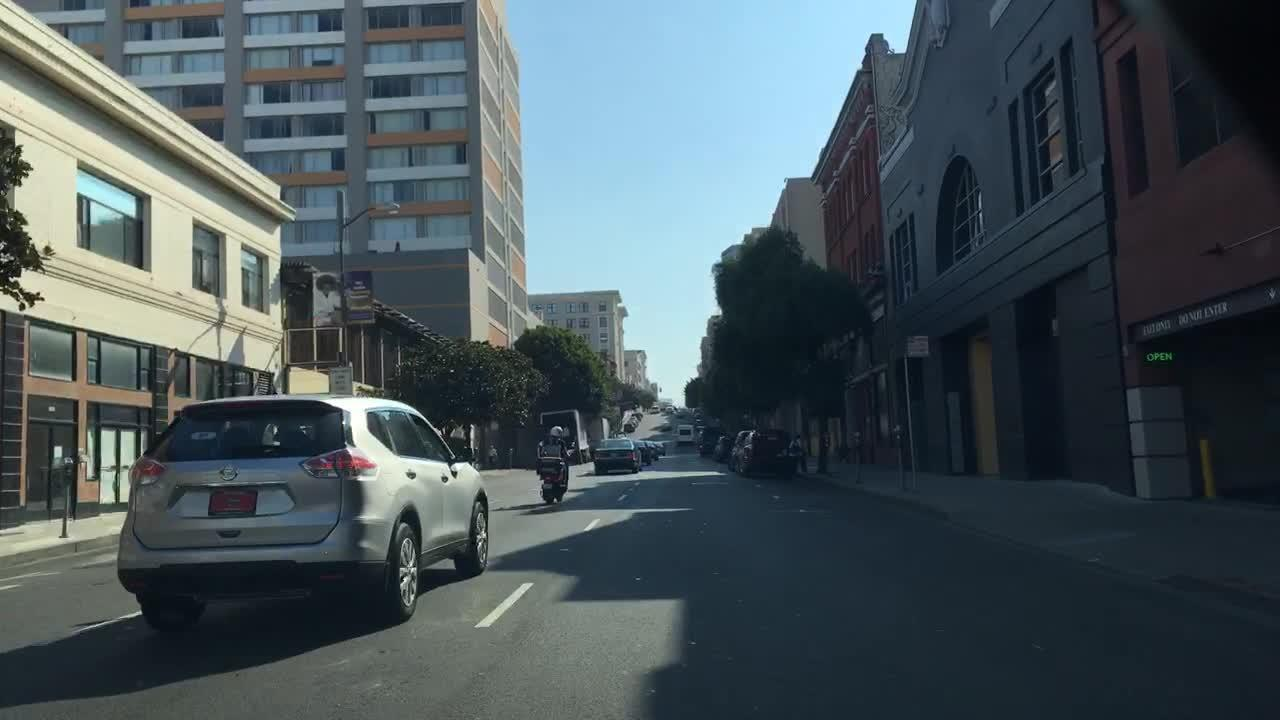Nissan: (211, 463, 242, 487)
